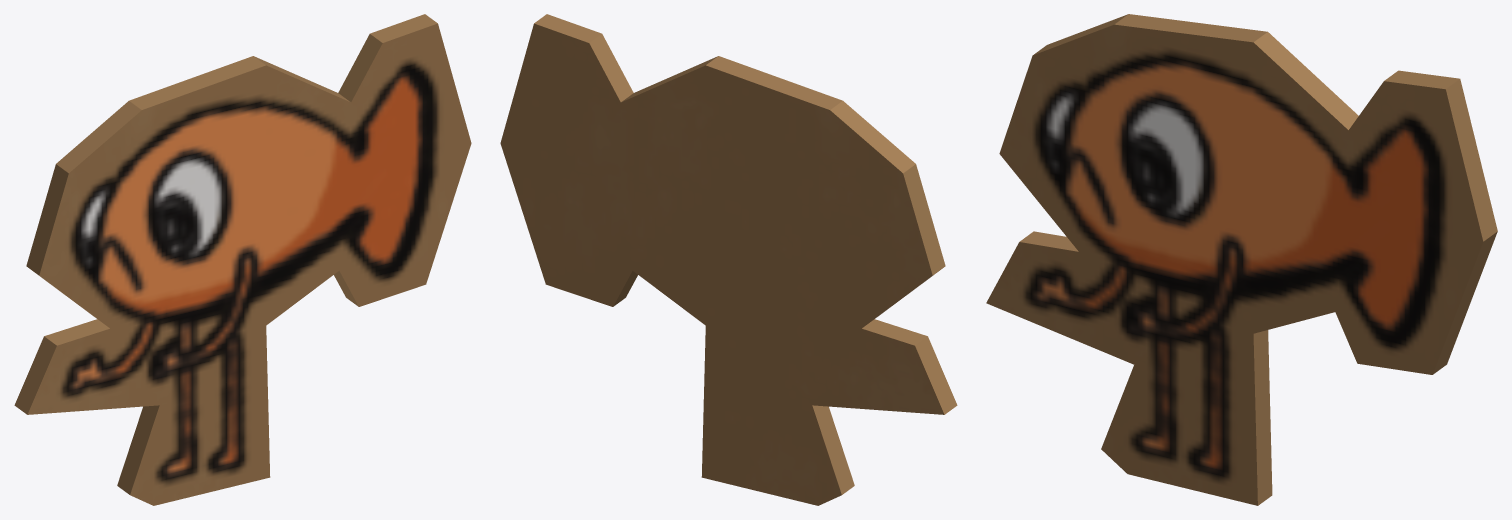
Rendered from SM_Succes_Steve3.fbx.
The picture shows the model from 3 angles, left to right: view 1: azimuth 30°, elevation 25°; view 2: azimuth 150°, elevation 25°; view 3: azimuth 330°, elevation 25°; orthographic projection. The views are drawn at different scales.
Parts seen in each view (by area): view 1: Steve 3; view 2: Steve 3; view 3: Steve 3.
Boxes of the visible parts, x1,y1,x2,y2 form: Steve 3: (14, 14, 471, 505); Steve 3: (500, 14, 957, 505); Steve 3: (986, 14, 1497, 505).
Bounding box in the file's own units: 111 × 98.48 × 5.59.
